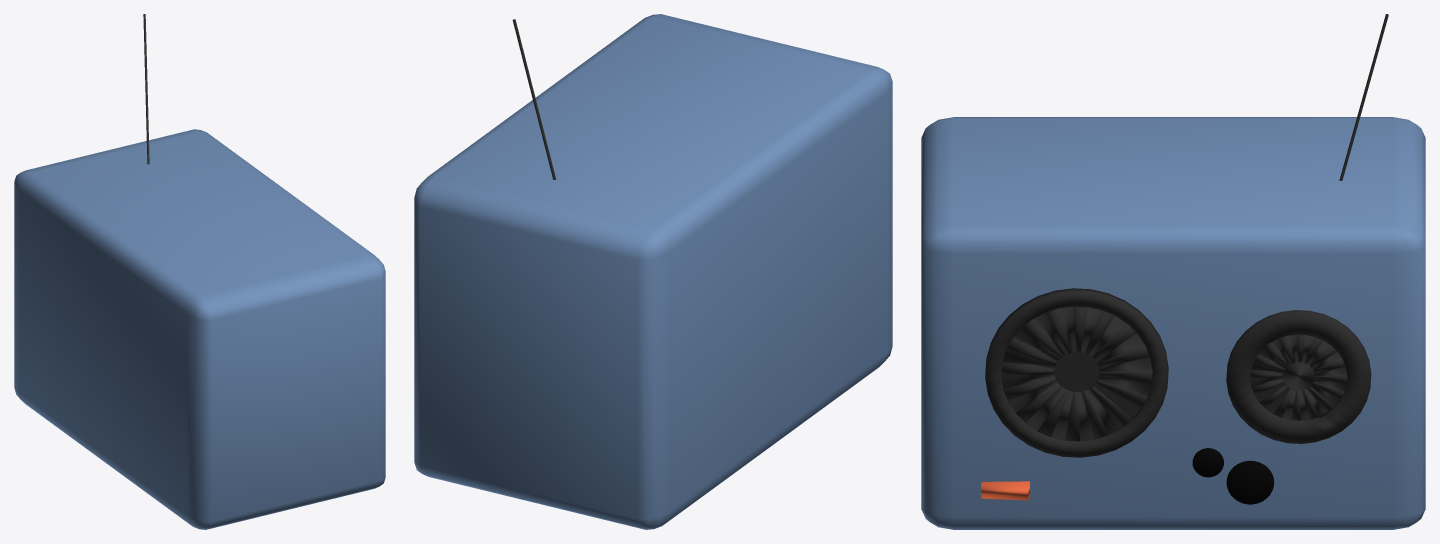
The model's file is rádio.fbx.
3 views of the same model, side by side, from view 1: azimuth 30°, elevation 25°; view 2: azimuth 150°, elevation 25°; view 3: azimuth 270°, elevation 25° (orthographic). The views are drawn at different scales.
Visible parts, largest first — view 1: Cube, Cube.001, Cylinder; view 2: Cube, Cube.001, Cylinder; view 3: Cube, Cube.001, Circle, Circle.001, Sphere, Cube.002, Sphere.001, Cylinder.
Part boxes in pixels (<box>): Cube: <box>14,129,385,529</box>; Cube.001: <box>20,133,352,519</box>; Cylinder: <box>143,14,149,164</box>; Cube: <box>414,14,892,529</box>; Cube.001: <box>421,19,885,517</box>; Cylinder: <box>512,19,556,179</box>; Cube: <box>921,117,1425,529</box>; Cube.001: <box>956,119,1390,513</box>; Circle: <box>985,288,1168,457</box>; Circle.001: <box>1226,310,1371,443</box>; Sphere: <box>1226,460,1274,504</box>; Cube.002: <box>981,481,1030,500</box>; Sphere.001: <box>1192,448,1223,477</box>; Cylinder: <box>1339,14,1388,180</box>.
Bounding box in the file's own units: 140 × 239 × 229.
